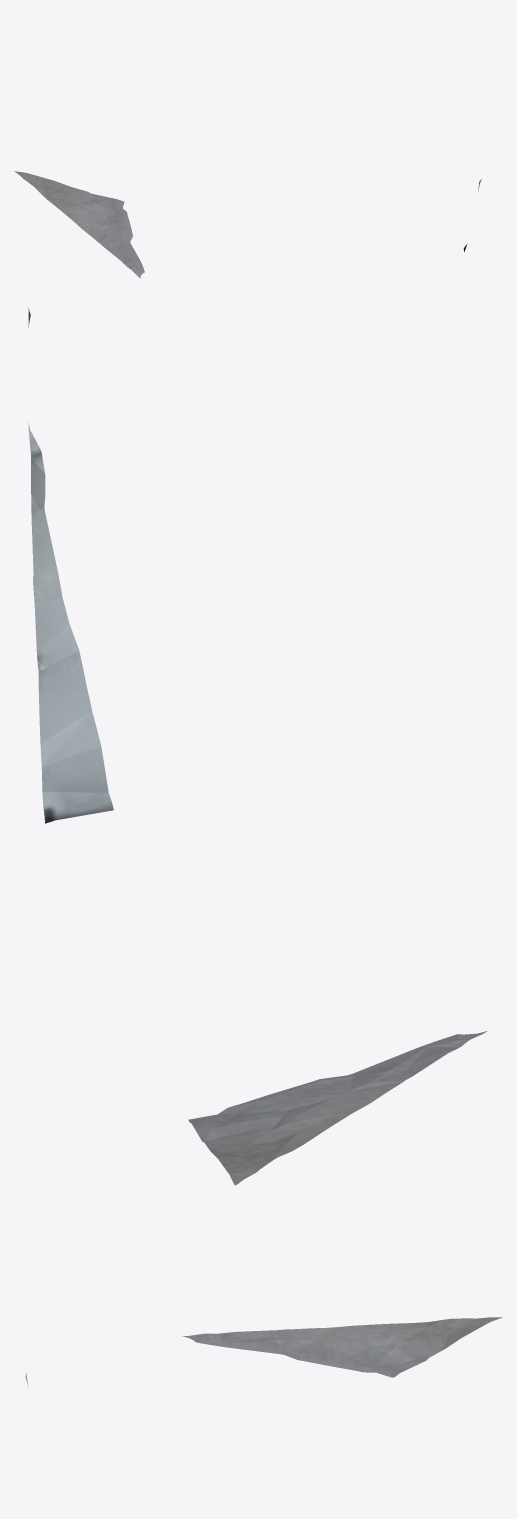
3 renders of one model, top to bottom at view 1: azimuth 30°, elevation 25°; view 2: azimuth 150°, elevation 25°; view 3: azimuth 270°, elevation 25°, orthographic. The views are drawn at different scales.
Size of the model in its own units: 5.62 by 4.37 by 6.34.
Materials: 1 (1 with a texture image).
